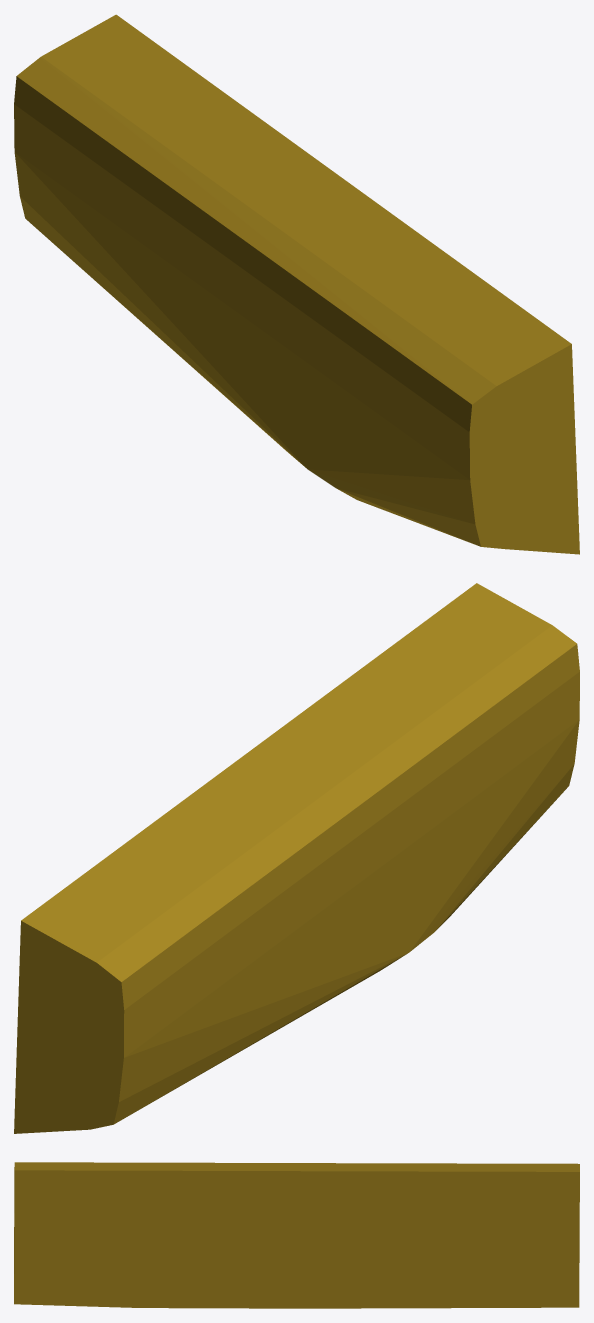
The model's file is converted_Downdraft_Assy_collision_69_a4841bff.obj.
3 renders of one model, top to bottom at view 1: azimuth 30°, elevation 25°; view 2: azimuth 150°, elevation 25°; view 3: azimuth 270°, elevation 25°, orthographic. The views are drawn at different scales.
Size of the model in its own units: 0.0366 by 0.0703 by 0.2605.
